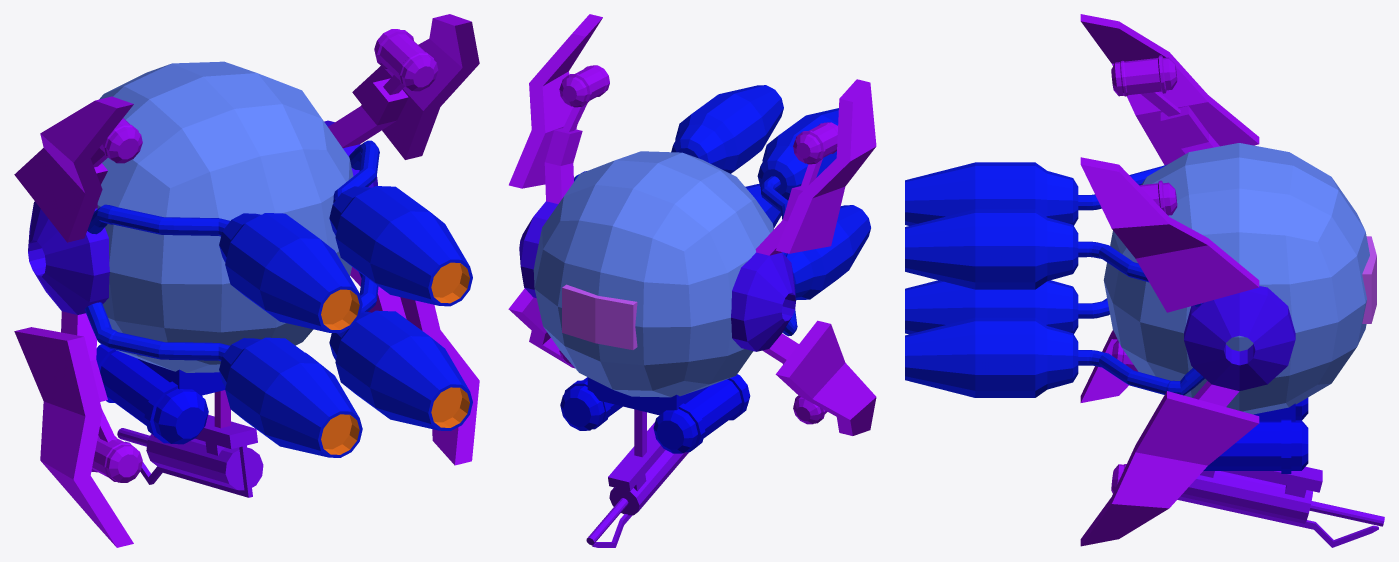
The model's file is drone_with_welding_machine_colored.fbx.
The picture shows the model from 3 angles, left to right: view 1: azimuth 30°, elevation 25°; view 2: azimuth 150°, elevation 25°; view 3: azimuth 270°, elevation 25°; orthographic projection. The views are drawn at different scales.
Visible parts, largest first — view 1: Cube, Cylinder, Cube.004, Cube.003; view 2: Cube, Cylinder, Cube.004, Cube.002; view 3: Cube, Cube.004, Cylinder.
Part boxes in pixels (x1,y1,x2,y2): Cube: (14, 14, 479, 547); Cylinder: (96, 344, 315, 444); Cube.004: (117, 414, 263, 497); Cube.003: (214, 390, 230, 428); Cube: (508, 14, 876, 435); Cylinder: (560, 374, 750, 453); Cube.004: (586, 422, 688, 547); Cube.002: (634, 409, 646, 457); Cube: (905, 14, 1376, 546); Cube.004: (1177, 466, 1384, 547); Cylinder: (1203, 397, 1308, 473).
Bounding box in the file's own units: 264 × 327 × 311.
